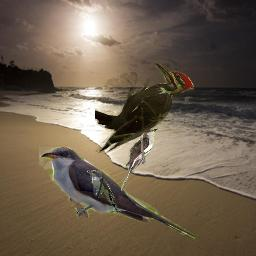Cuckoo: (39, 147, 195, 241), (121, 128, 158, 191), (87, 170, 119, 213)
Woodpecker: (95, 63, 194, 155)
